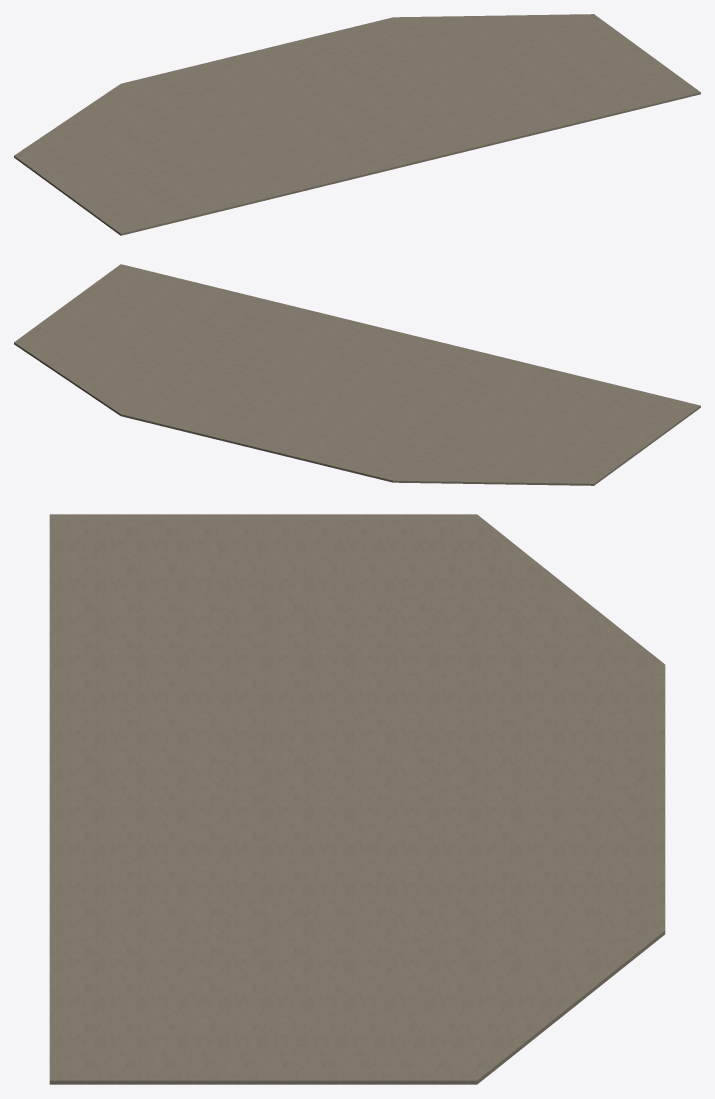
The model's file is ULT_Floor.FBX.
3 renders of one model, top to bottom at view 1: azimuth 30°, elevation 25°; view 2: azimuth 150°, elevation 25°; view 3: azimuth 270°, elevation 25°, orthographic. The views are drawn at different scales.
Visible parts, largest first — view 1: ULT_Floor; view 2: ULT_Floor; view 3: ULT_Floor.
Part boxes in pixels (x1,y1,x2,y2): ULT_Floor: [14, 14, 700, 235]; ULT_Floor: [14, 264, 700, 485]; ULT_Floor: [49, 514, 665, 1084].
Size of the model in its own units: 37003 by 120 by 16999.
